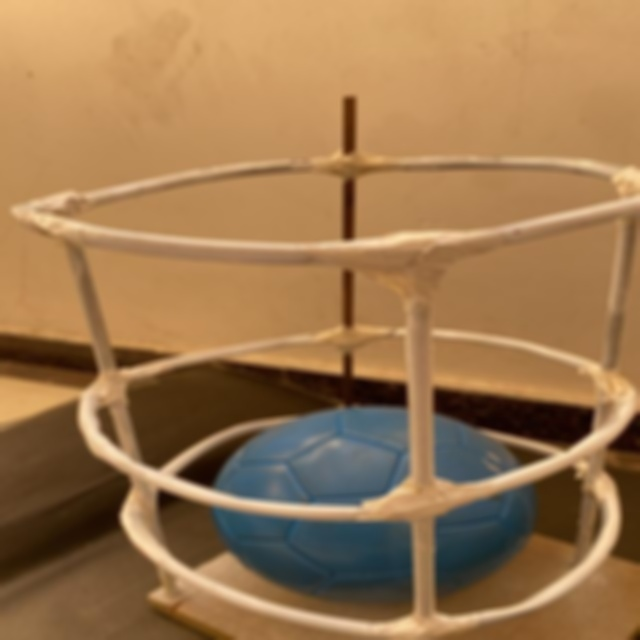blue_ball: (207, 400, 544, 593)
silo: (3, 135, 640, 640)
